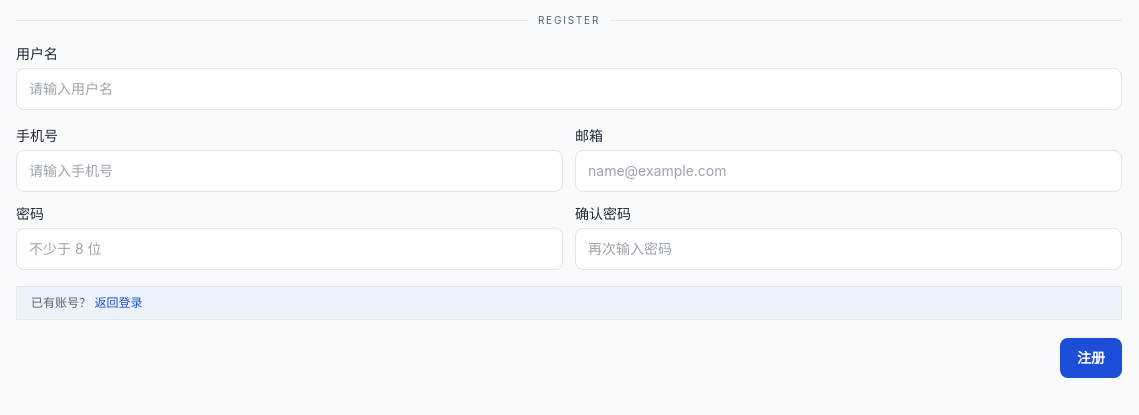
Test: AuthRegisterForm async lifecycle › keeps the latest username blur result when availability responses resolve out of order
The image size is (1139, 415).
Type "user_a" into the field with id "auth-register-username" at {"x": 569, "y": 89}, box [16, 68, 1122, 110]
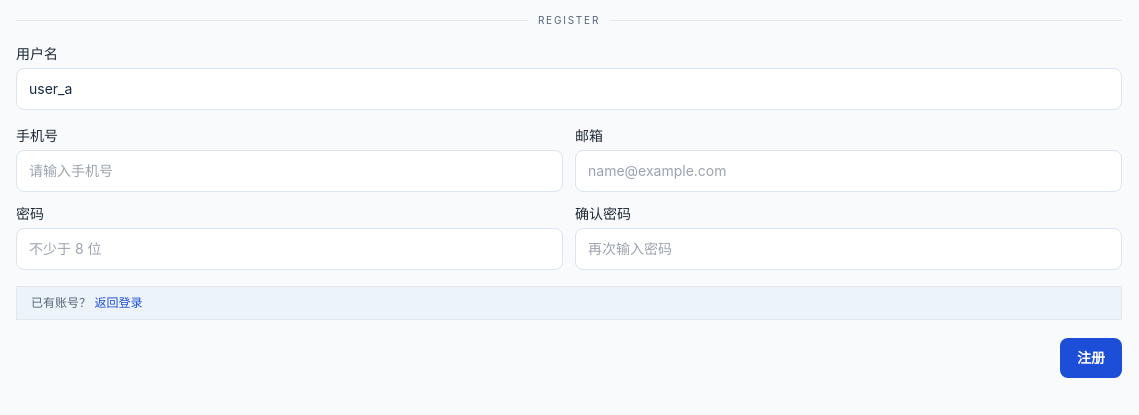
Replace the text in the field with id "auth-register-username" with "user_b" at {"x": 569, "y": 89}, box [16, 68, 1122, 110]
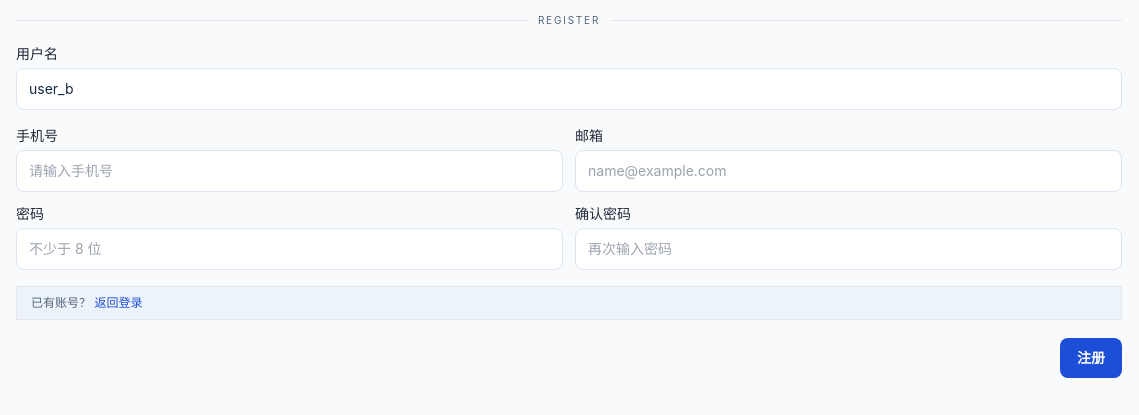
Leave the field with id "auth-register-username", box [16, 68, 1122, 110]
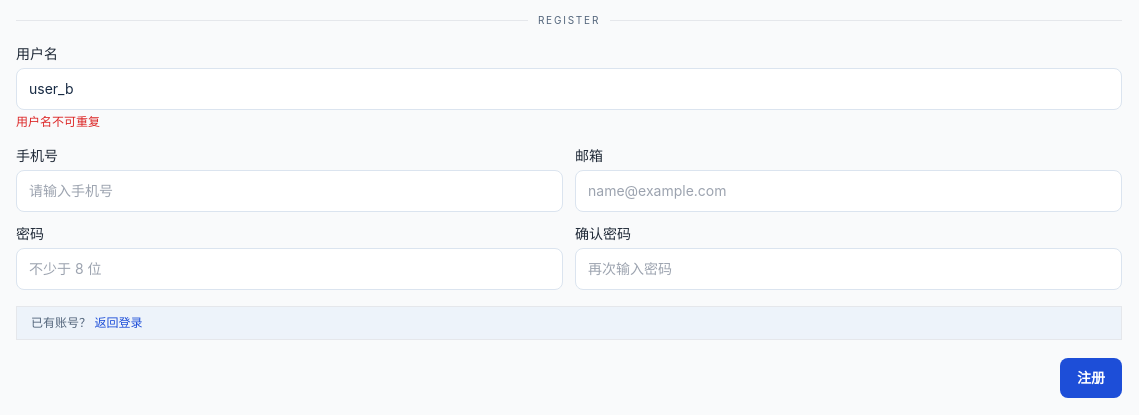
Now the message "用户名不可重复" is shown, box [16, 114, 100, 129]
